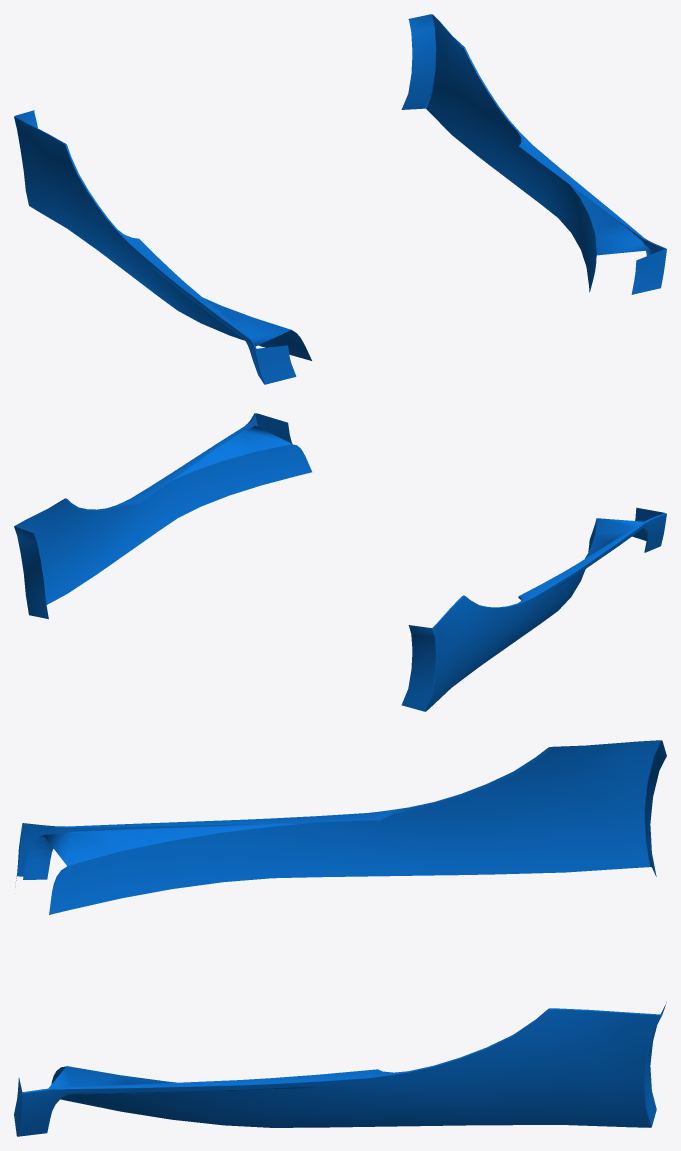
File: Veyron_Skirt01_Duco.fbx
3 views of the same model, one above another, from view 1: azimuth 30°, elevation 25°; view 2: azimuth 150°, elevation 25°; view 3: azimuth 270°, elevation 25° (orthographic). The views are drawn at different scales.
Visible parts, largest first — view 1: Veyron_Skirt01_Duco; view 2: Veyron_Skirt01_Duco; view 3: Veyron_Skirt01_Duco.
Part boxes in pixels (x1,y1,x2,y2): Veyron_Skirt01_Duco: (14, 14, 666, 384); Veyron_Skirt01_Duco: (14, 413, 666, 711); Veyron_Skirt01_Duco: (14, 740, 666, 1136).
Size of the model in its own units: 197 by 43.14 by 197.
